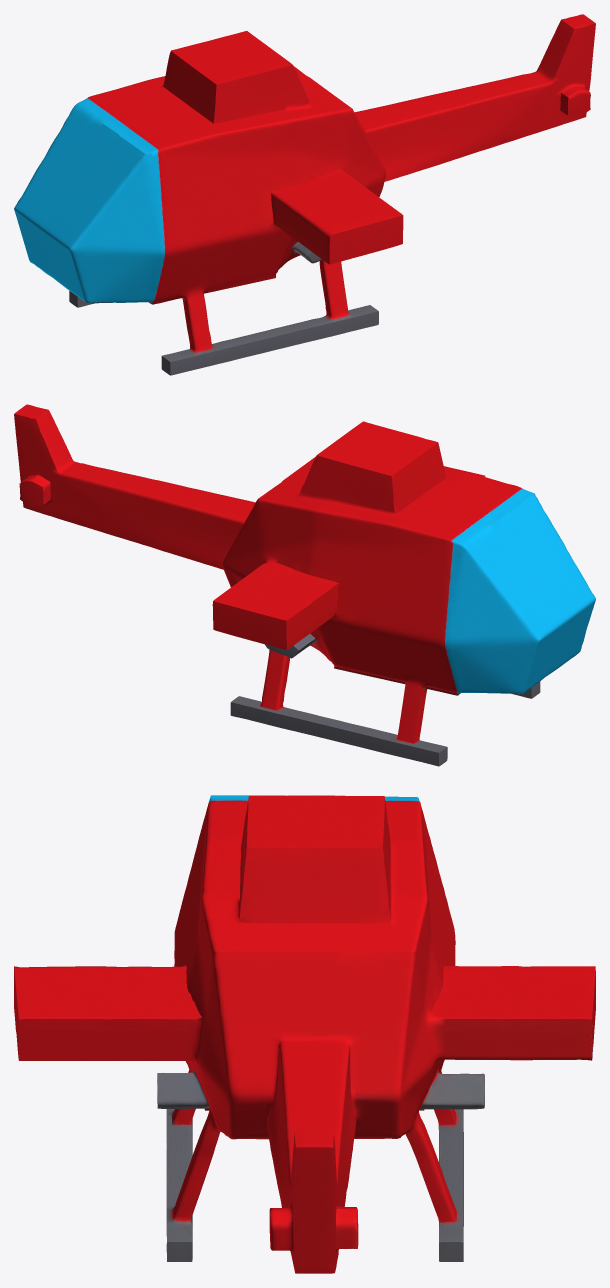
File: body.glb
The picture shows the model from 3 angles, top to bottom: view 1: azimuth 30°, elevation 25°; view 2: azimuth 150°, elevation 25°; view 3: azimuth 270°, elevation 25°; orthographic projection. The views are drawn at different scales.
Visible parts, largest first — view 1: mesh_node; view 2: mesh_node; view 3: mesh_node.
Boxes of the visible parts, x1,y1,x2,y2 form: mesh_node: [14, 14, 595, 375]; mesh_node: [14, 404, 595, 766]; mesh_node: [14, 795, 595, 1273].
Bounding box in the file's own units: 1.9 × 0.8462 × 1.2.
Materials: 1 (1 with a texture image).
